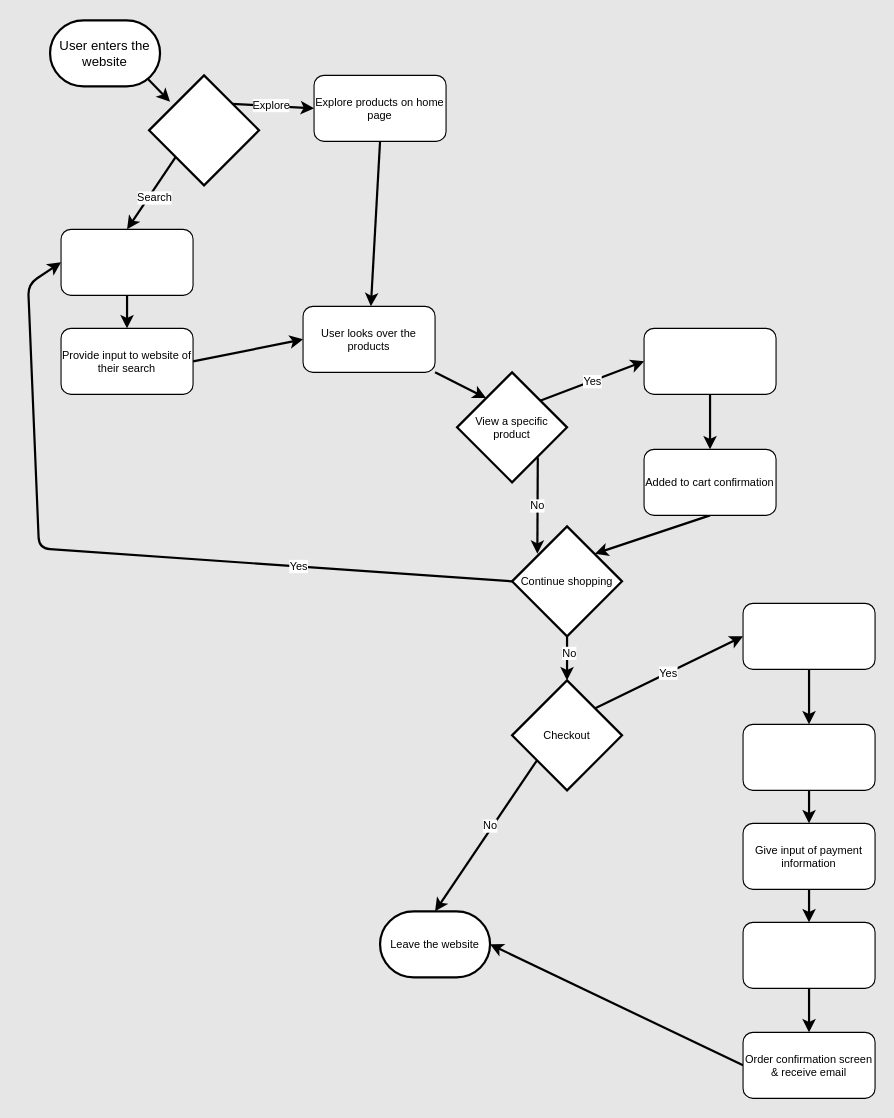
The diagram is 894 pixels wide and 1118 high, and some of its shapes have lost their labels. The box of each missing label's shape, as (x1, y1, x2, y2) in pixels:
Add this item to cart: (643, 327, 776, 394)
Pay: (742, 921, 875, 988)
Search for product: (60, 228, 193, 295)
Search for product or explore on homepage: (147, 74, 260, 186)
View Cart screen: (742, 602, 875, 669)
View Payment screen: (742, 723, 875, 790)
